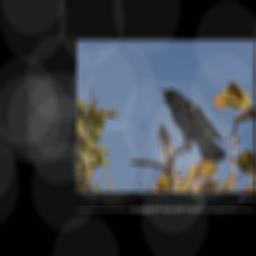Crow: (160, 88, 226, 162)
